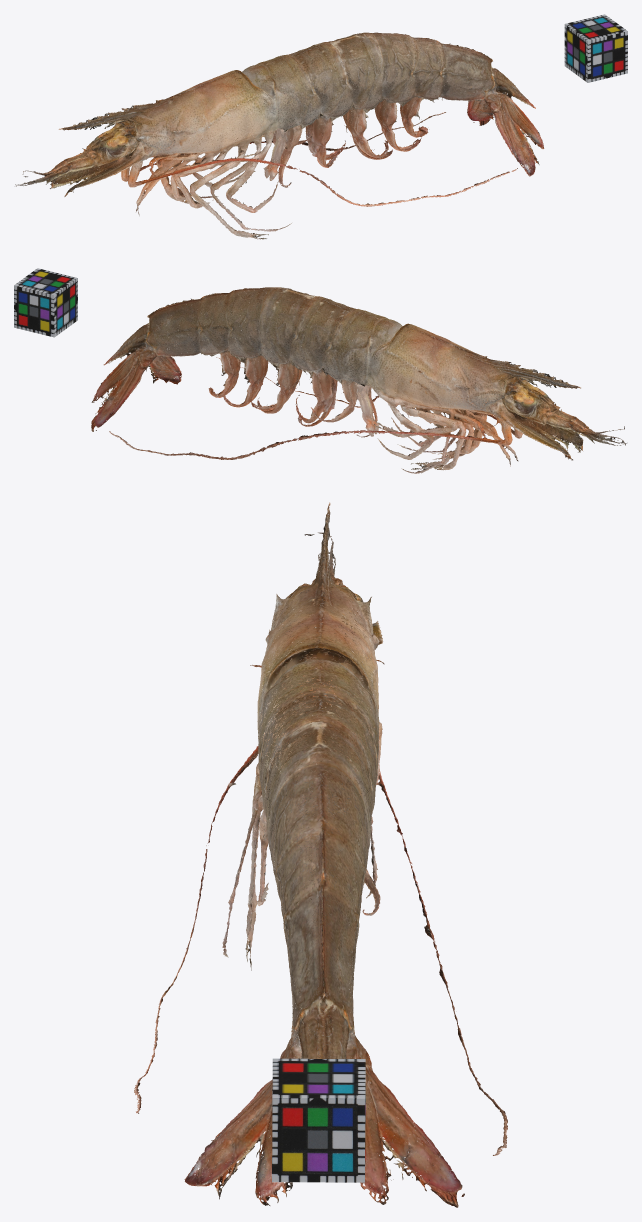
File: shrimp.glb
3 views of the same model, one above another, from view 1: azimuth 30°, elevation 25°; view 2: azimuth 150°, elevation 25°; view 3: azimuth 270°, elevation 25° (orthographic). The views are drawn at different scales.
Visible parts, largest first — view 1: Q11586-1all-6_5, Cube_2; view 2: Q11586-1all-6_5, Cube_2; view 3: Q11586-1all-6_5, Cube_2.
Boxes of the visible parts, box(x1,y1,x2,y2) form: Q11586-1all-6_5: box(15, 32, 544, 239); Cube_2: box(564, 14, 627, 82); Q11586-1all-6_5: box(91, 287, 626, 473); Cube_2: box(14, 268, 77, 337); Q11586-1all-6_5: box(134, 502, 507, 1207); Cube_2: box(272, 1058, 365, 1182).
Bounding box in the file's own units: 11.32 × 2.99 × 3.06.
Materials: 2 (2 with a texture image).
